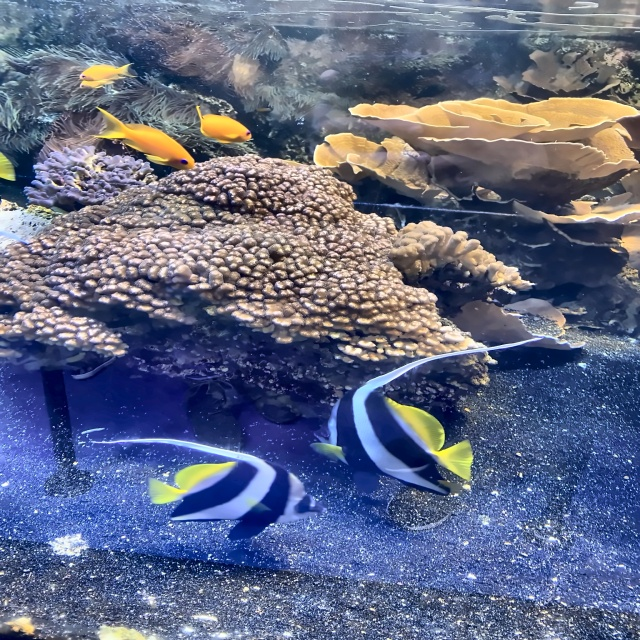fish: (295, 345, 513, 489), (105, 422, 308, 539), (95, 105, 197, 180), (195, 109, 260, 152), (73, 72, 127, 92), (75, 60, 133, 78)
